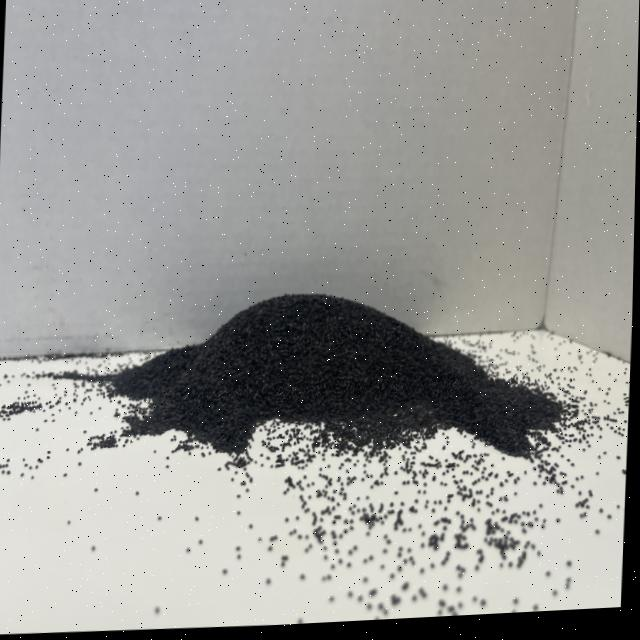Poppy Seeds: (100, 250, 559, 497)
